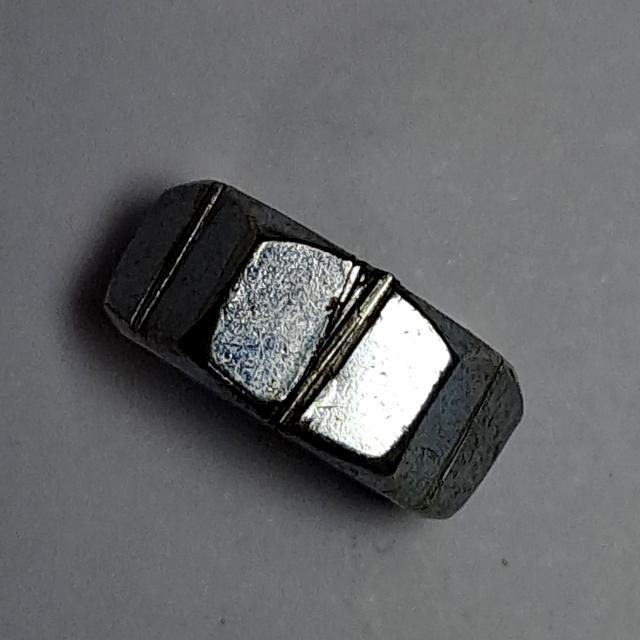Side_Scratches: (94, 158, 546, 531)
